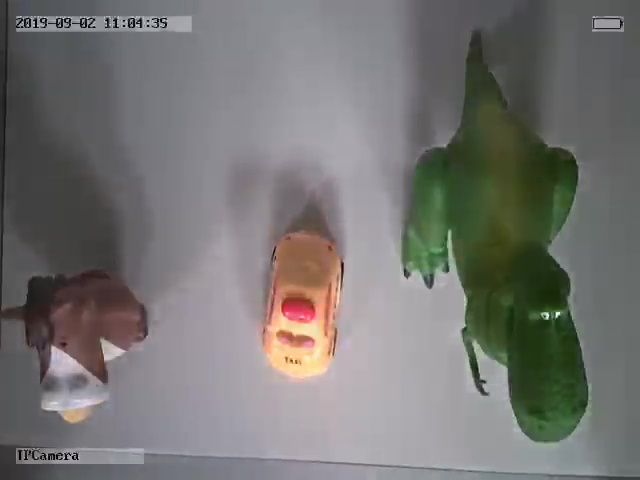car: (257, 229, 346, 377)
horse: (5, 271, 148, 424)
rex: (402, 54, 590, 444)
